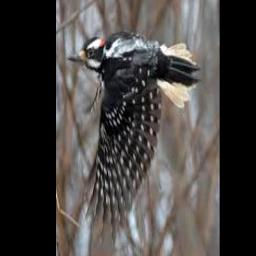Woodpecker: (68, 30, 200, 238)
